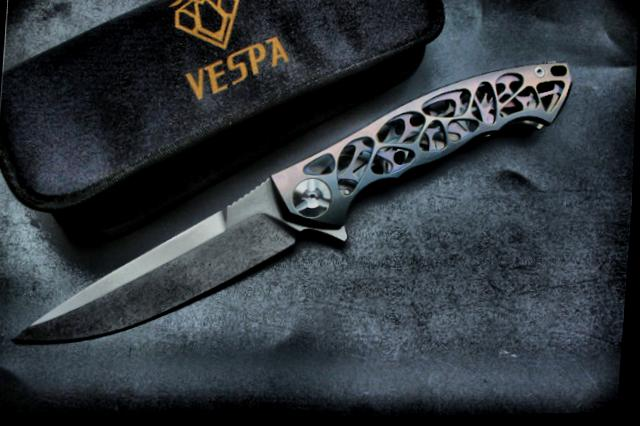knife: (5, 148, 363, 363)
